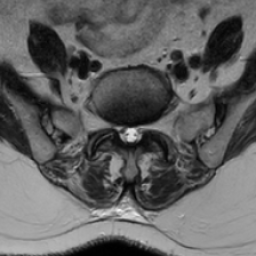CCS_severe_stenosis: (126, 116, 134, 148)
LFS_stenosis: (143, 115, 151, 140)
LLS_normal: (134, 118, 143, 144)
RFS_stenosis: (108, 116, 118, 139)
RLS_normal: (118, 119, 126, 143)
